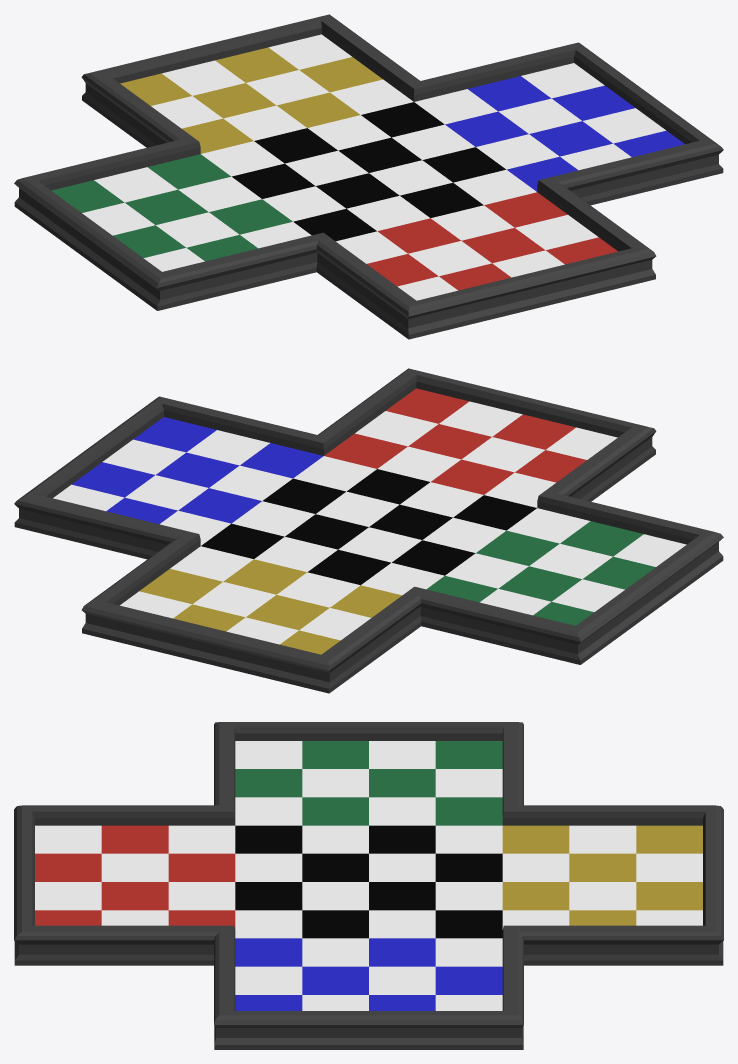
Rendered from stol4x4.fbx.
3 views of the same model, one above another, from view 1: azimuth 30°, elevation 25°; view 2: azimuth 150°, elevation 25°; view 3: azimuth 270°, elevation 25° (orthographic). The views are drawn at different scales.
Visible parts, largest first — view 1: Cube.001, Cube.002; view 2: Cube.001, Cube.002; view 3: Cube.001, Cube.002.
Boxes of the visible parts, x1,y1,x2,y2 form: Cube.001: (51, 34, 684, 300); Cube.002: (14, 14, 723, 339); Cube.001: (53, 388, 686, 654); Cube.002: (14, 368, 723, 693); Cube.001: (35, 741, 702, 1010); Cube.002: (14, 722, 723, 1049).
Size of the model in its own units: 2125 by 104 by 2125.
